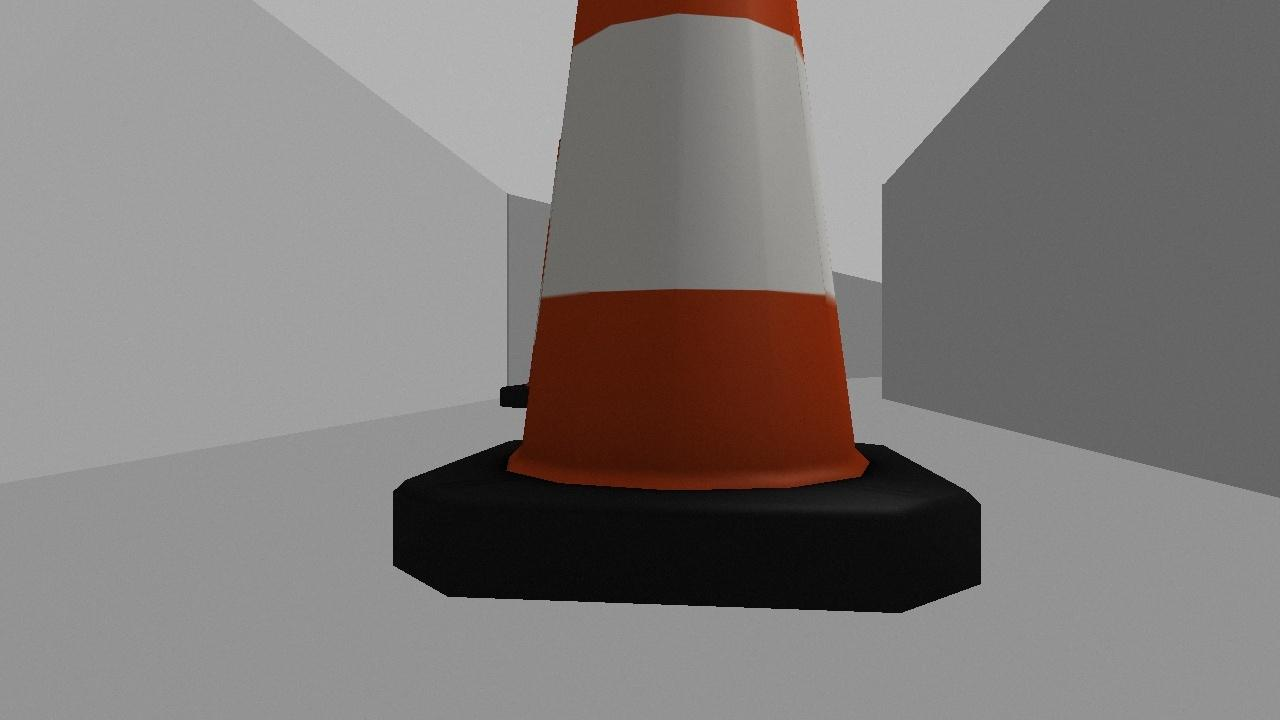cone_barrel: (351, 0, 1012, 629)
